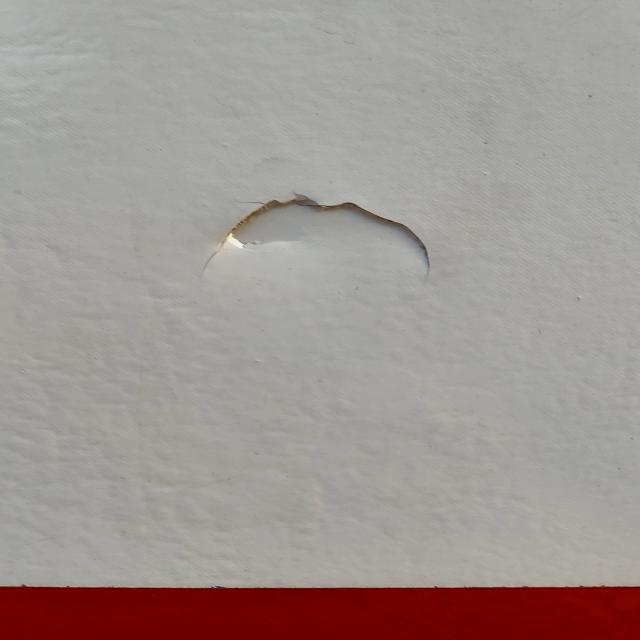Scratches: (200, 188, 457, 294)
